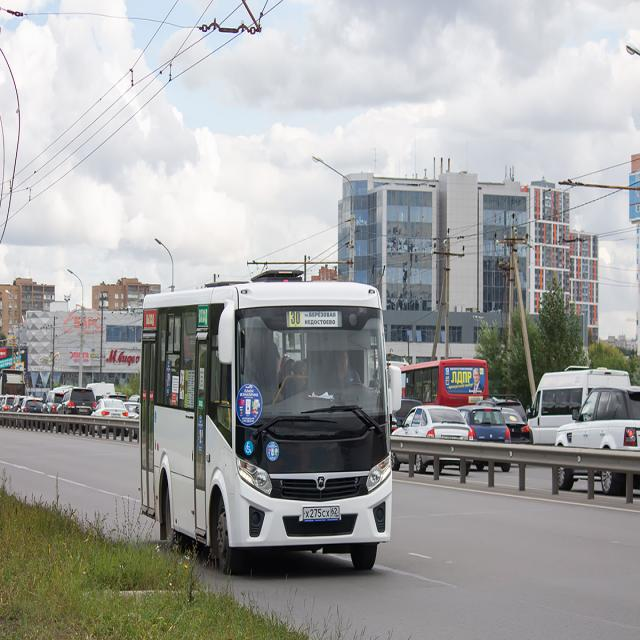number-of-bus: (290, 311, 302, 330)
